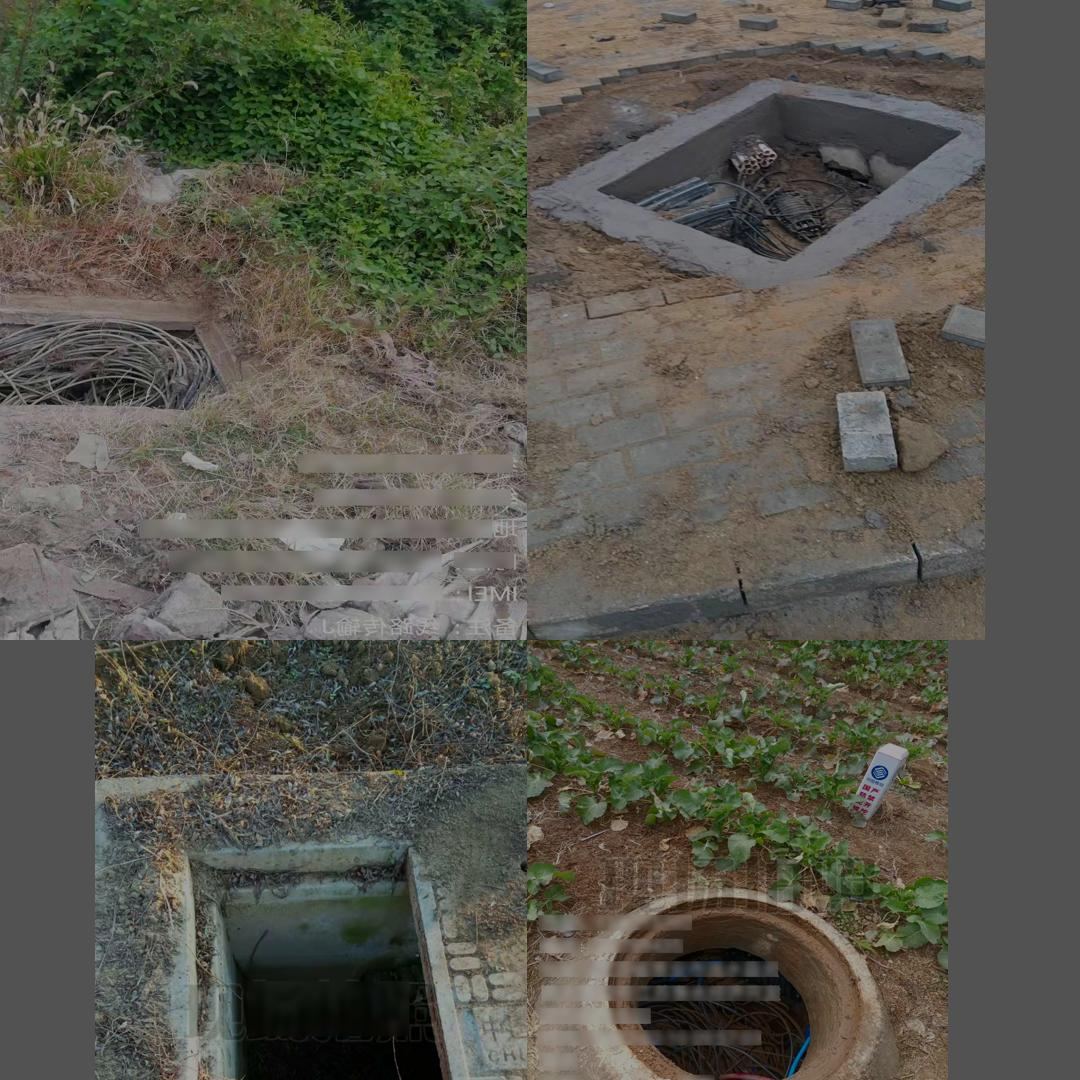lose: (546, 63, 970, 264), (170, 835, 477, 1080), (585, 890, 886, 1080), (0, 290, 251, 409)
